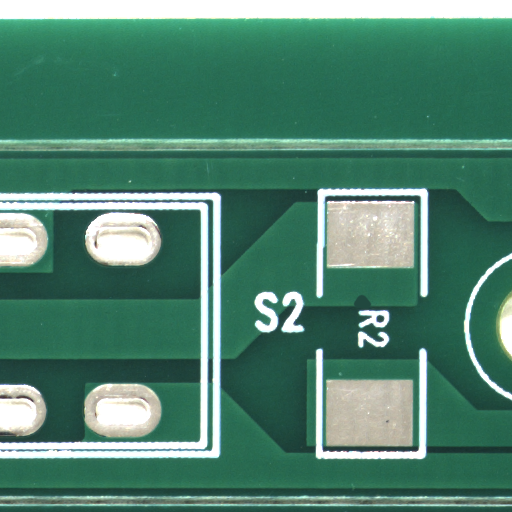Mouse_bite: (363, 301, 380, 314)
